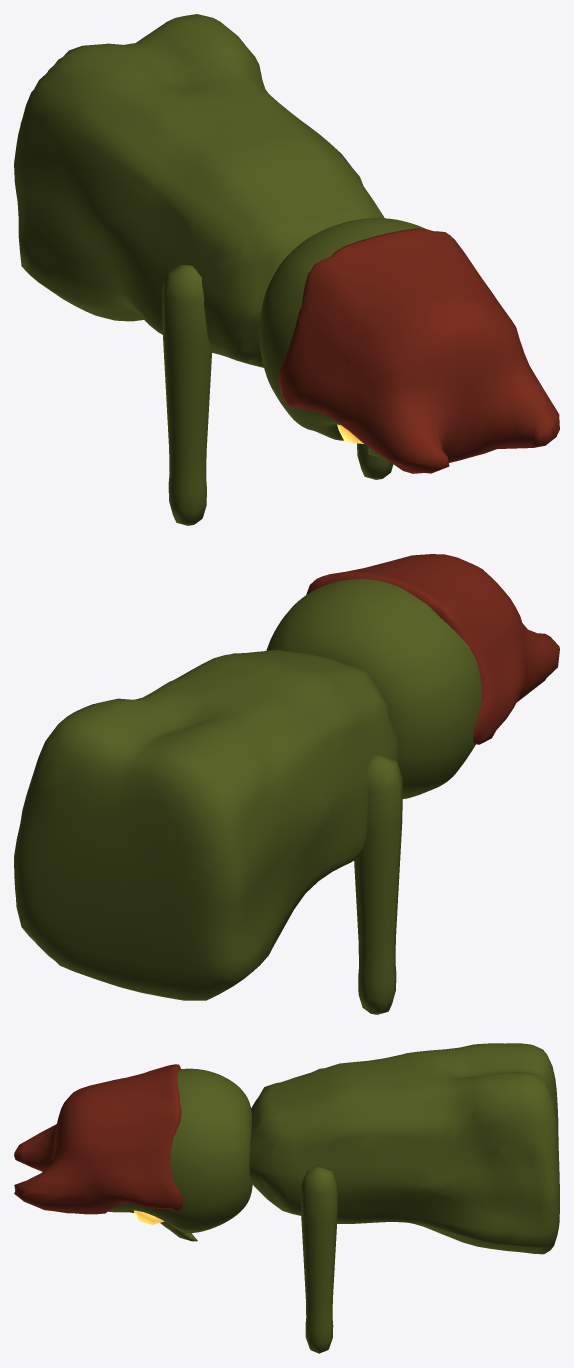
Rendered from enemy.fbx.
3 views of the same model, one above another, from view 1: azimuth 30°, elevation 25°; view 2: azimuth 150°, elevation 25°; view 3: azimuth 270°, elevation 25° (orthographic). The views are drawn at different scales.
Parts seen in each view (by area): view 1: Cube.003; view 2: Cube.003; view 3: Cube.003.
Boxes of the visible parts, <box> form: Cube.003: <box>14,14,559,525</box>; Cube.003: <box>14,554,559,1014</box>; Cube.003: <box>14,1043,559,1353</box>.
Bounding box in the file's own units: 38.37 × 57.73 × 109.
